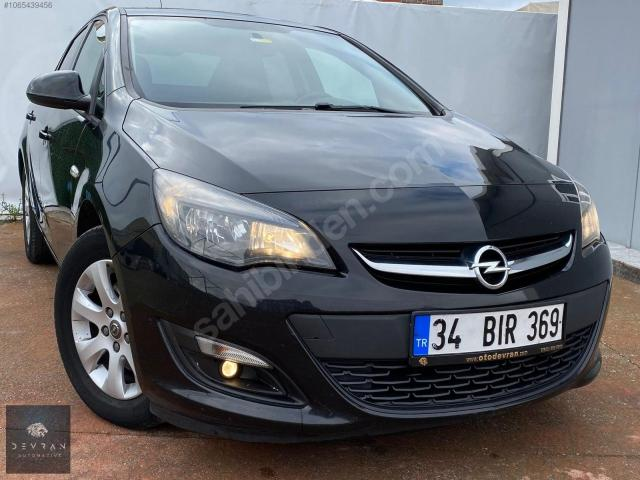plaka: (411, 303, 565, 365)
